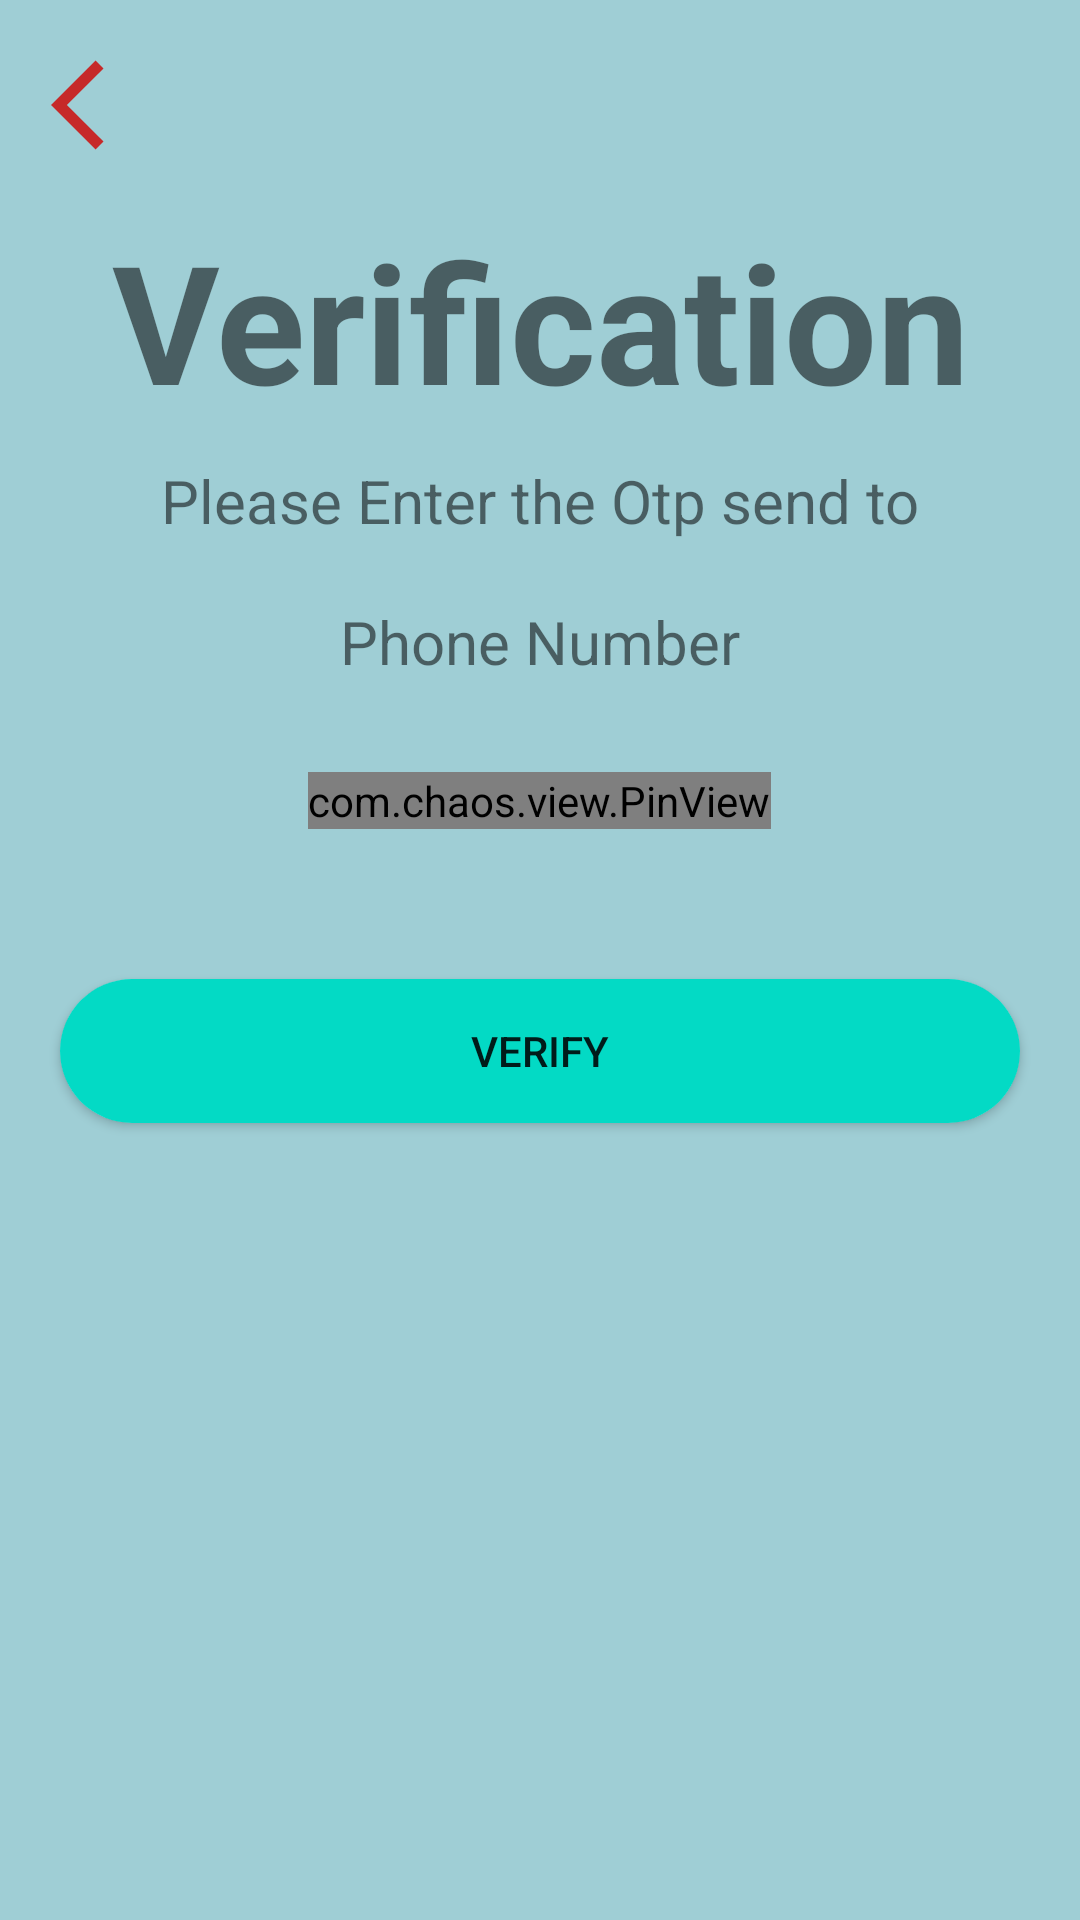

Icons on this 1080 × 1920 Android screen, each with the point to tap as (x,y):
back: (77,105)
